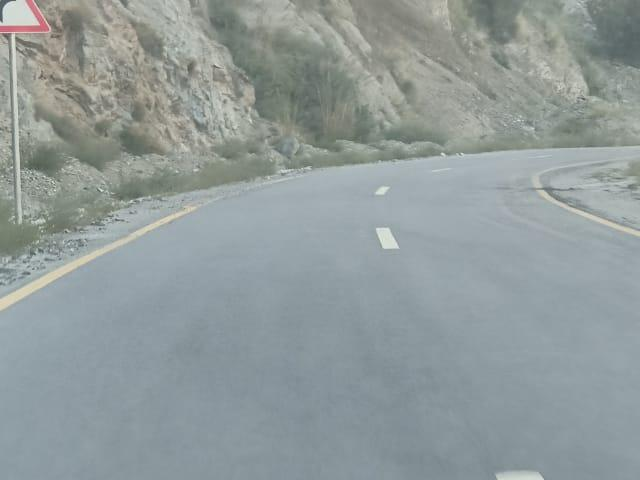right_turn: (240, 90, 640, 215), (0, 0, 45, 35)
